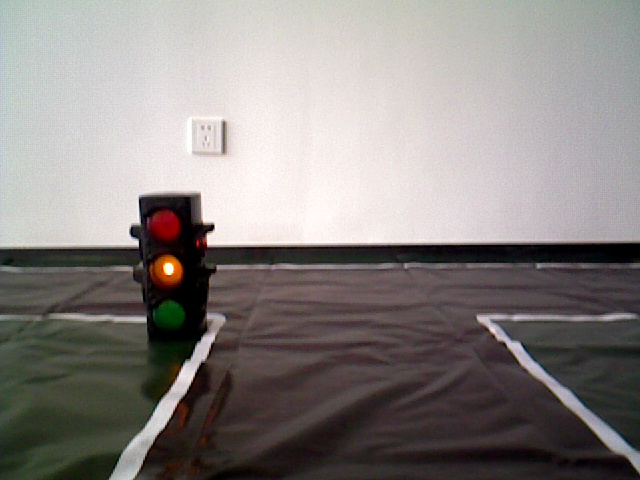yellow: (136, 194, 208, 337)
